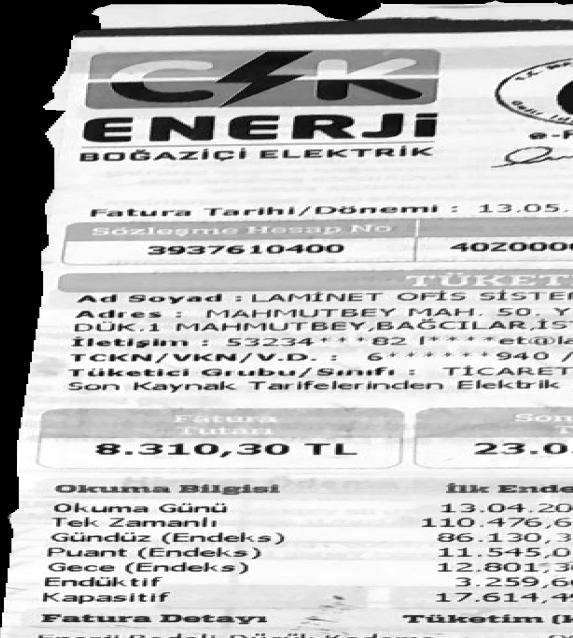electricity-bill: (0, 1, 573, 638)
